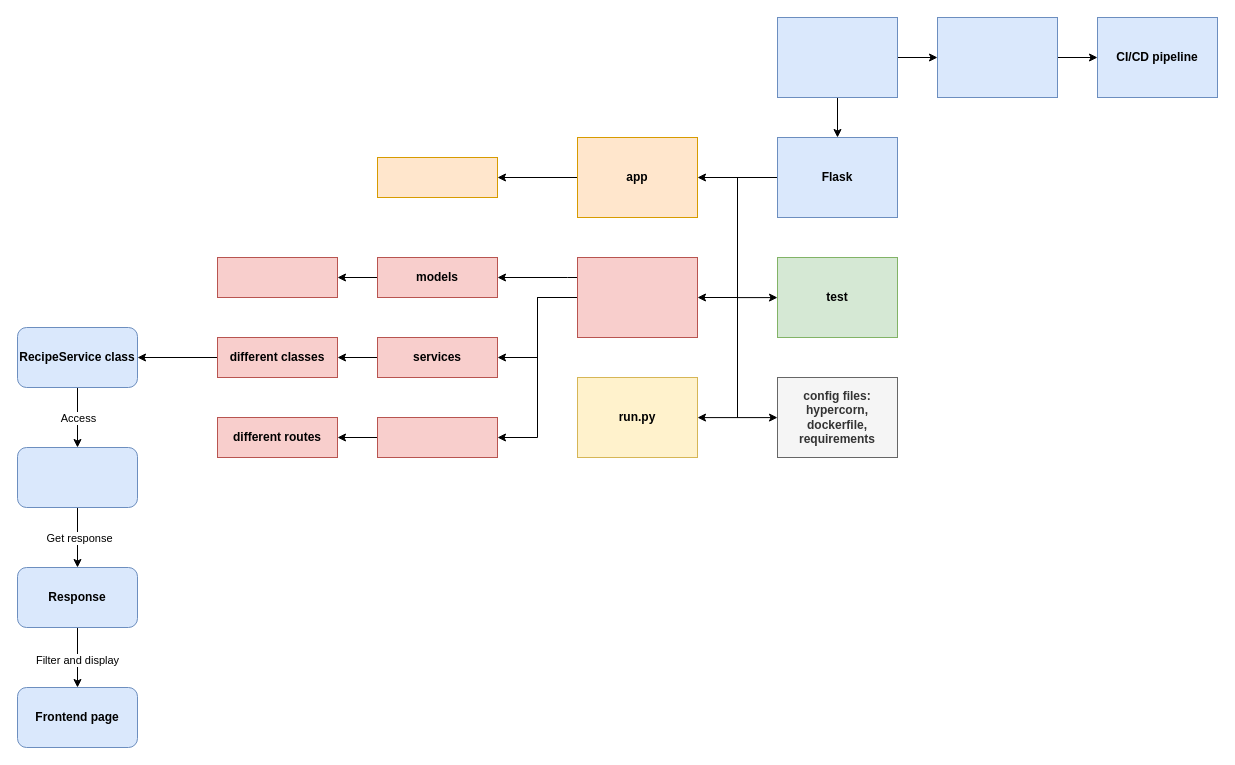
This 1235x765 diagram has some shape labels left out. Each missing label, with the centre of its shape:
.github: the point at 997,57
controllers: the point at 437,437
database: the point at 277,277
External apis: the point at 77,477
HTML/CSS/JS: the point at 437,177
MVC Model–view–controller: the point at 637,297
Recipe Finder: the point at 837,57
